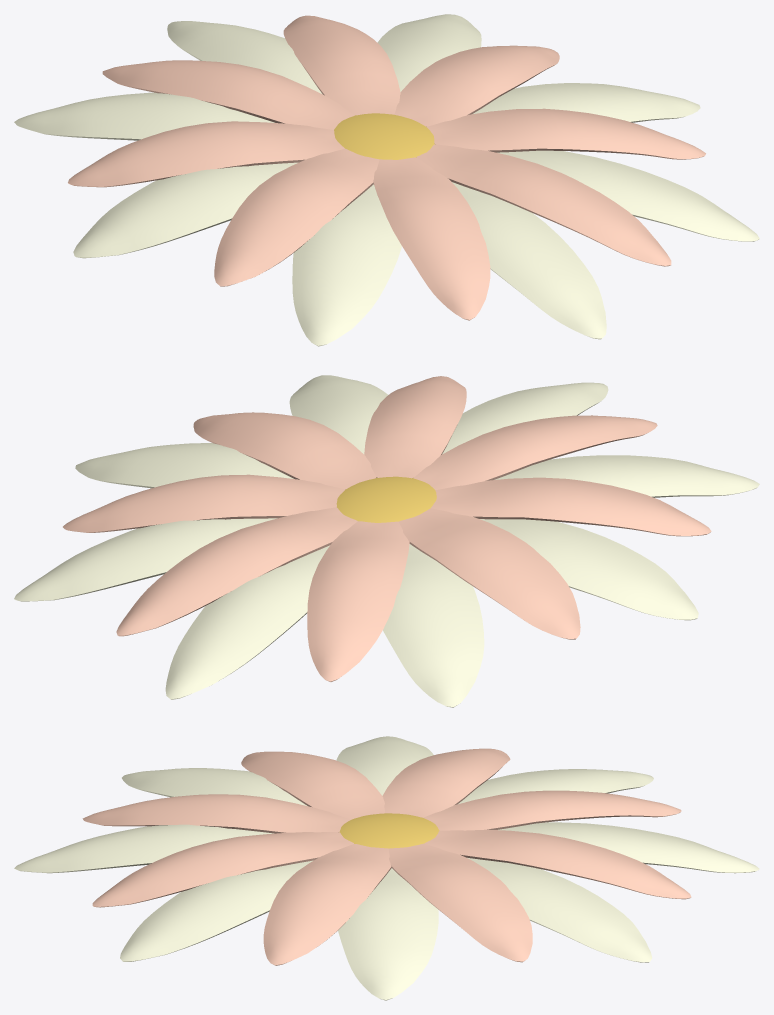
Rendered from Platform_Flower.FBX.
3 renders of one model, top to bottom at view 1: azimuth 30°, elevation 25°; view 2: azimuth 150°, elevation 25°; view 3: azimuth 270°, elevation 25°, orthographic. The views are drawn at different scales.
Parts seen in each view (by area): view 1: Line003; view 2: Line003; view 3: Line003.
Part boxes in pixels (x1=…): Line003: x1=14, y1=14, x2=759, y2=346; Line003: x1=14, y1=375, x2=759, y2=707; Line003: x1=14, y1=736, x2=759, y2=1000.
Size of the model in its own units: 91.44 by 7.68 by 110.
